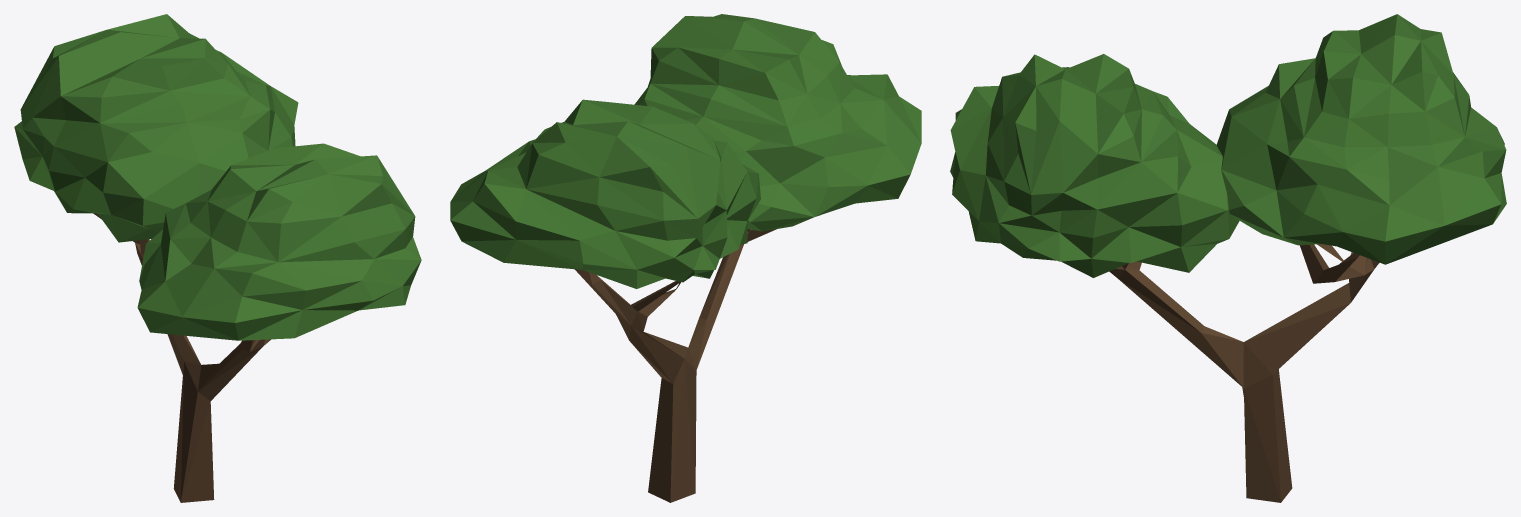
Rendered from tree_1.glb.
3 views of the same model, side by side, from view 1: azimuth 30°, elevation 25°; view 2: azimuth 150°, elevation 25°; view 3: azimuth 270°, elevation 25° (orthographic). The views are drawn at different scales.
Parts seen in each view (by area): view 1: lod0; view 2: lod0; view 3: lod0.
Part boxes in pixels (<box>): lod0: <box>14,14,421,502</box>; lod0: <box>450,14,921,502</box>; lod0: <box>950,14,1506,502</box>.
Size of what is drawn, in the model's own units: 5.18 by 6.79 by 7.6.
